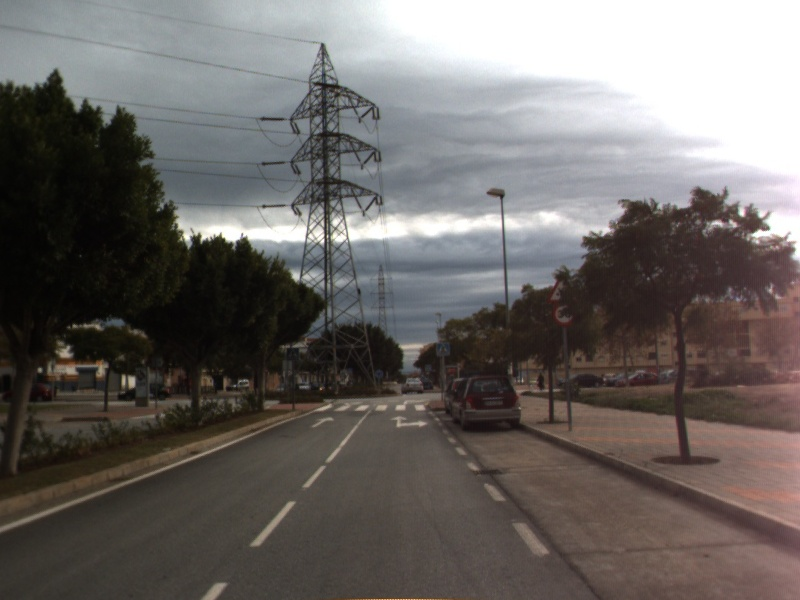STRAIGHT: (309, 414, 337, 429)
STRAIGHT_RIGHT: (388, 414, 430, 429)
